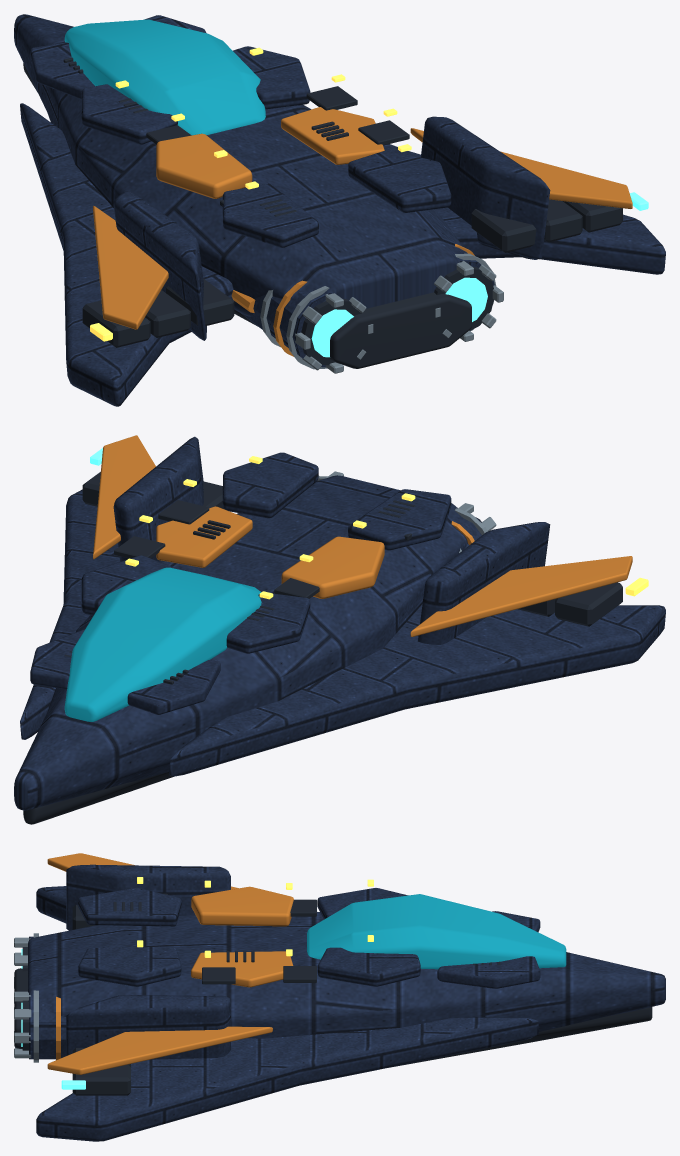
Rendered from sparrow.glb.
The picture shows the model from 3 angles, top to bottom: view 1: azimuth 30°, elevation 25°; view 2: azimuth 150°, elevation 25°; view 3: azimuth 270°, elevation 25°; orthographic projection. The views are drawn at different scales.
Parts seen in each view (by area): view 1: Gôndola do motor.047 · exportação, Bocal do motor.047 · exportação, Colar da turbina.142 · exportação, Cabine panorâmica.023 · exportação, Aleta do bocal.383 · exportação, Núcleo propulsor.047 · exportação, Luz de serviço.191 · exportação; view 2: Gôndola do motor.047 · exportação, Colar da turbina.142 · exportação, Cabine panorâmica.023 · exportação, Bocal do motor.047 · exportação, Luz de serviço.191 · exportação, Aleta do bocal.383 · exportação; view 3: Gôndola do motor.047 · exportação, Cabine panorâmica.023 · exportação, Colar da turbina.142 · exportação, Bocal do motor.047 · exportação, Aleta do bocal.383 · exportação.
Part boxes in pixels (x1,y1,x2,y2): Gôndola do motor.047 · exportação: (14,14,665,406); Bocal do motor.047 · exportação: (23,57,622,368); Colar da turbina.142 · exportação: (93,107,632,356); Cabine panorâmica.023 · exportação: (64,19,265,135); Aleta do bocal.383 · exportação: (260,253,503,373); Núcleo propulsor.047 · exportação: (311,192,648,357); Luz de serviço.191 · exportação: (90,47,411,341); Gôndola do motor.047 · exportação: (14,436,665,810); Colar da turbina.142 · exportação: (93,435,632,636); Cabine panorâmica.023 · exportação: (64,567,261,721); Bocal do motor.047 · exportação: (23,471,622,824); Luz de serviço.191 · exportação: (125,456,648,599); Aleta do bocal.383 · exportação: (317,471,496,552); Gôndola do motor.047 · exportação: (28,864,665,1141); Cabine panorâmica.023 · exportação: (307,894,566,969); Colar da turbina.142 · exportação: (47,853,293,1074); Bocal do motor.047 · exportação: (14,893,652,1095); Aleta do bocal.383 · exportação: (14,933,38,1062).
Bounding box in the file's own units: 41.29 × 11.1 × 48.07.
7 materials, 1 textured.
